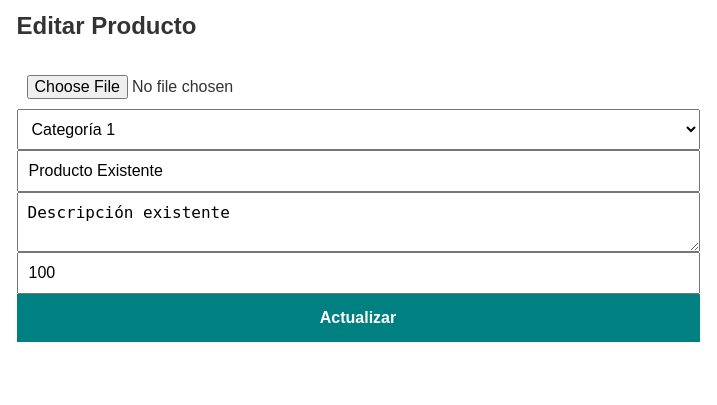
Scenario: EditProduct Component › debería mostrar un mensaje de error si falla la actualización
Expected: the dropdown is shown, 16,109 -> 700,150
Replace the text in the field with placeholder "Nombre Producto" with "Nuevo Producto". click: coordinates (358, 171)
box: 16,150 -> 700,192
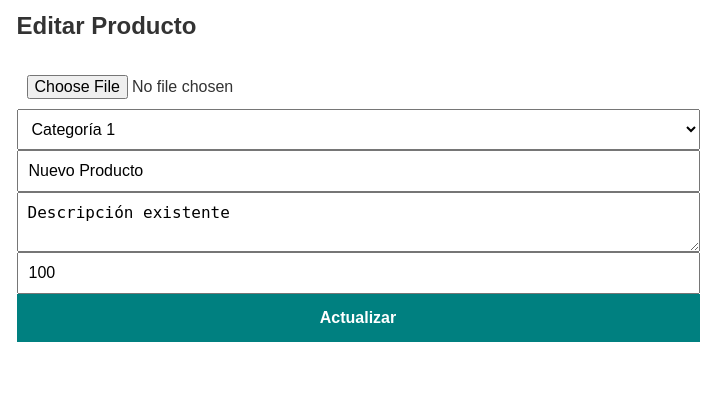
Click the button "Actualizar". click: coordinates (358, 318)
box: 16,294 -> 700,342
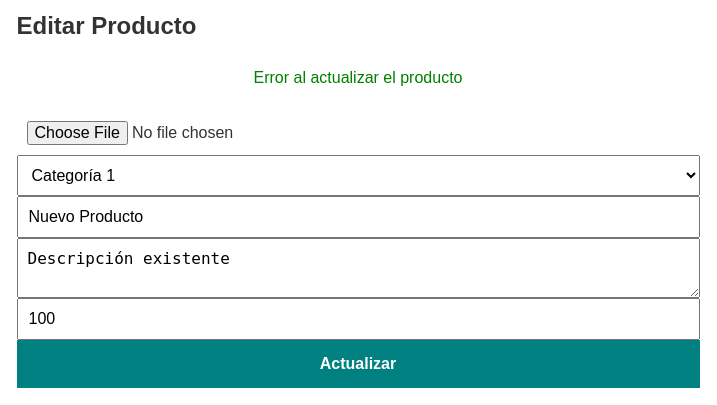
Result: the text "Error al actualizar el producto" is shown at 254,69 -> 462,86
